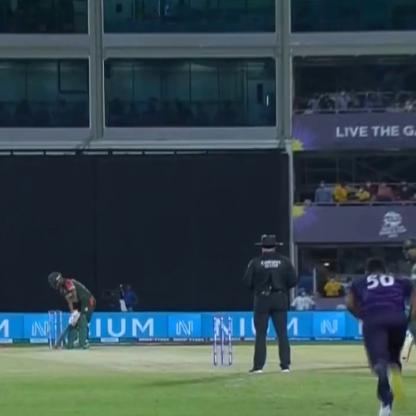pitch: (4, 334, 305, 388)
